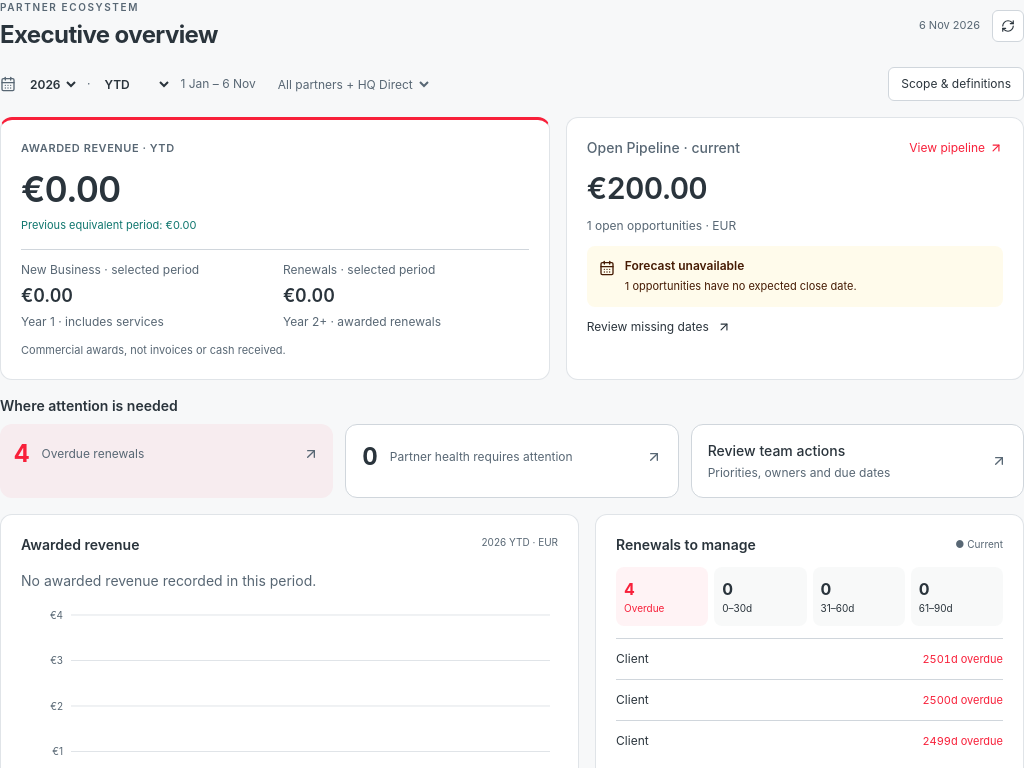
Dashboard role, error and filter behavior › shows only three urgent renewal summaries with a route to all customers and owners
This screenshot has width=1024, height=768.
Step 1. Select "Active Partner" in the dropdown named "Partner" → (352, 84), box [272, 68, 432, 100]
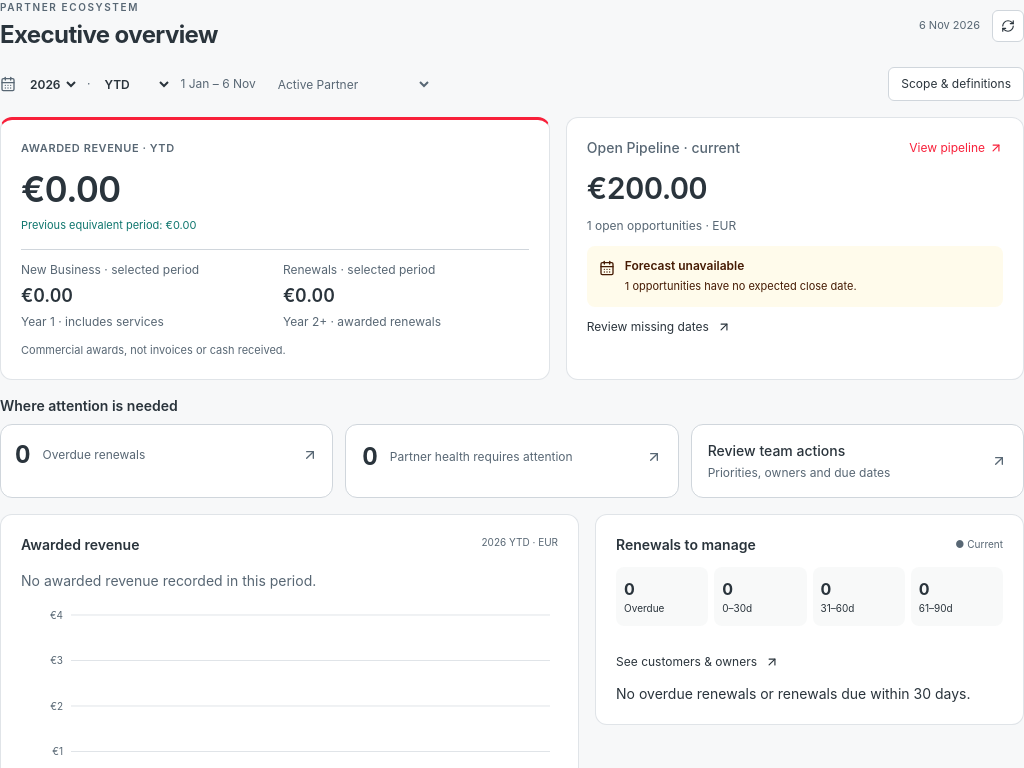
Now the link "See customers & owners" has attribute href="/renewals?partner=p", box [616, 650, 779, 670]
